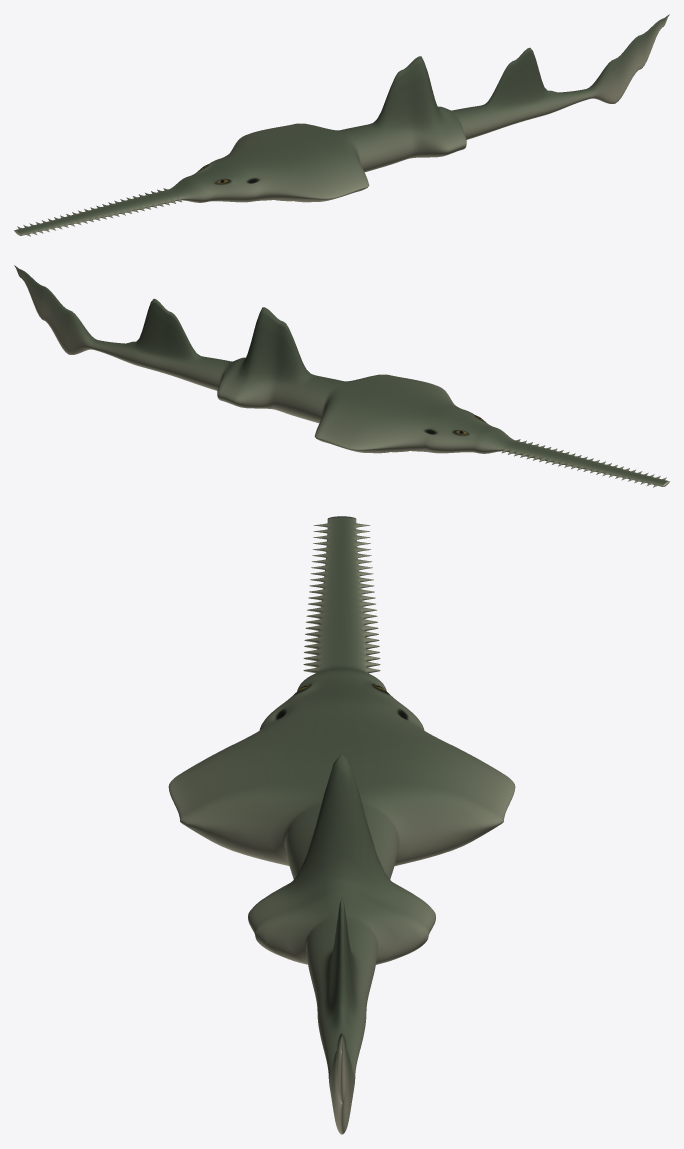
3 renders of one model, top to bottom at view 1: azimuth 30°, elevation 25°; view 2: azimuth 150°, elevation 25°; view 3: azimuth 270°, elevation 25°, orthographic. The views are drawn at different scales.
Visible parts, largest first — view 1: Smalltooth_sawfish; view 2: Smalltooth_sawfish; view 3: Smalltooth_sawfish.
Part boxes in pixels (bbox=[...]): Smalltooth_sawfish: bbox=[14, 14, 669, 236]; Smalltooth_sawfish: bbox=[14, 265, 669, 487]; Smalltooth_sawfish: bbox=[168, 516, 515, 1134].
Size of the model in its own units: 4 by 0.5817 by 0.92.
Materials: 1 (1 with a texture image).
